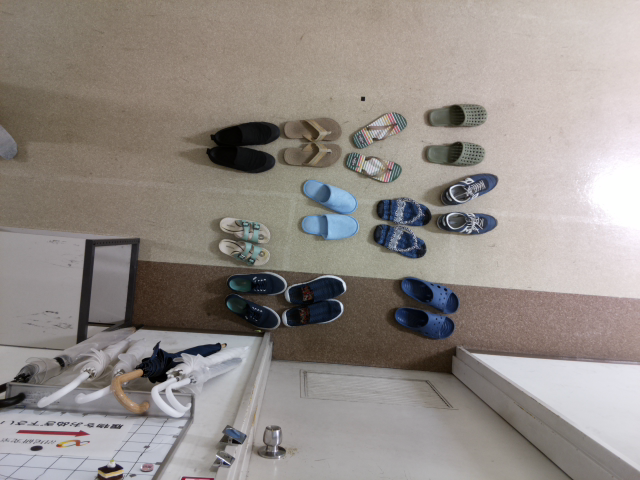Copy of Copy of Copy of Copy of Copy of Copy of Copy of Copy of Copy of Copy of: (220, 292, 282, 334), (391, 304, 457, 342), (398, 273, 462, 312), (295, 175, 357, 214), (279, 295, 343, 330), (284, 272, 347, 306), (373, 194, 434, 228), (223, 266, 289, 297), (295, 211, 358, 240), (214, 215, 273, 245), (214, 236, 273, 266)
Copy of Copy of Copy of Copy of Copy of Copy of Copy of Copy of Copy of shoe: (370, 221, 433, 261)
Copy of Copy of Copy of Copy of Copy of Copy of Copy of Copy of shoe: (435, 210, 501, 239)
Copy of Copy of Copy of Copy of Copy of Copy of Copy of shoe: (433, 169, 500, 206)
Copy of Copy of Copy of Copy of Copy of Copy of shoe: (422, 138, 488, 166)
Copy of Copy of Copy of Copy of Copy of shoe: (342, 149, 408, 185), (424, 101, 490, 130)
Copy of Copy of Copy of Copy of shoe: (341, 110, 410, 150)
Copy of Copy of Copy of shoe: (279, 137, 343, 169)
Copy of Copy of shoe: (279, 113, 343, 145)
Copy of shoe: (205, 141, 277, 174)
shoe: (210, 115, 282, 148)
